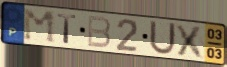2: (116, 18, 141, 54)
B: (86, 14, 112, 50)
M: (21, 8, 57, 45)
T: (56, 13, 79, 45)
U: (148, 19, 178, 57)
X: (174, 23, 207, 60)
